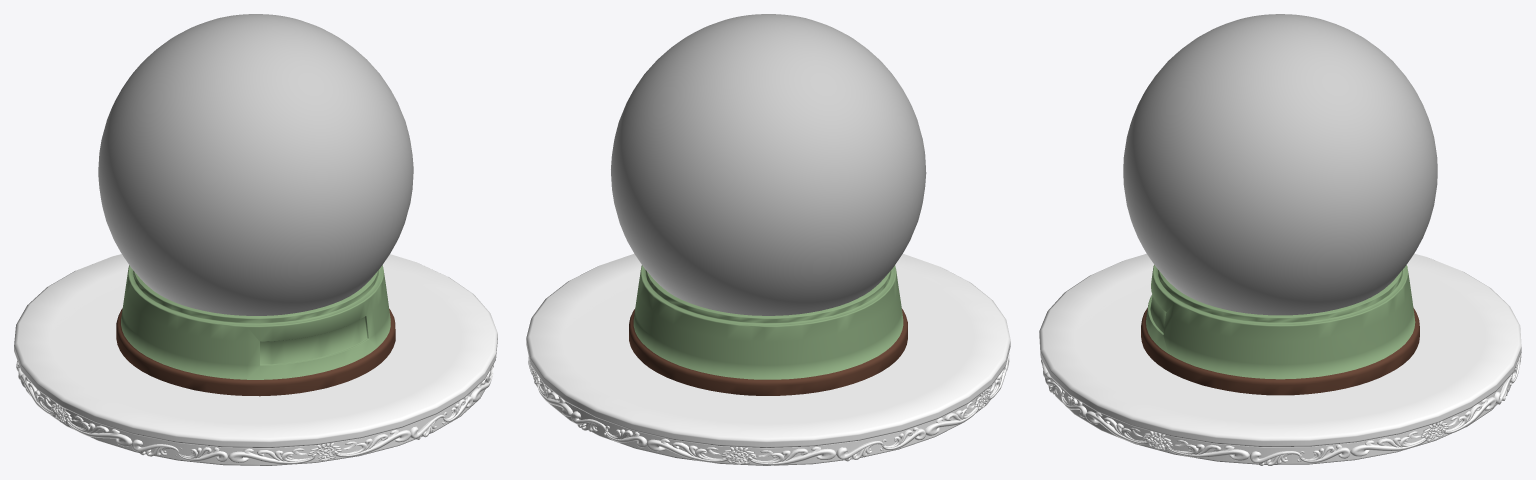
File: snowglobe-transformed.glb
3 views of the same model, side by side, from view 1: azimuth 30°, elevation 25°; view 2: azimuth 150°, elevation 25°; view 3: azimuth 270°, elevation 25° (orthographic).
Parts seen in each view (by area): view 1: build_scene:build_scene:Snow_Scene_Snow_Globe:___Default1_0, build_scene:build_scene:Snow_Scene_blinn1_0; view 2: build_scene:build_scene:Snow_Scene_Snow_Globe:___Default1_0, build_scene:build_scene:Snow_Scene_blinn1_0; view 3: build_scene:build_scene:Snow_Scene_Snow_Globe:___Default1_0, build_scene:build_scene:Snow_Scene_blinn1_0.
Boxes of the visible parts, box(x1,y1,x2,y2) form: build_scene:build_scene:Snow_Scene_Snow_Globe:___Default1_0: box(98, 14, 413, 315); build_scene:build_scene:Snow_Scene_blinn1_0: box(14, 254, 497, 465); build_scene:build_scene:Snow_Scene_Snow_Globe:___Default1_0: box(611, 14, 926, 315); build_scene:build_scene:Snow_Scene_blinn1_0: box(526, 253, 1010, 465); build_scene:build_scene:Snow_Scene_Snow_Globe:___Default1_0: box(1123, 14, 1437, 315); build_scene:build_scene:Snow_Scene_blinn1_0: box(1039, 253, 1521, 465).
Bounding box in the file's own units: 38.07 × 29.52 × 38.07.
2 materials, 2 textured.
